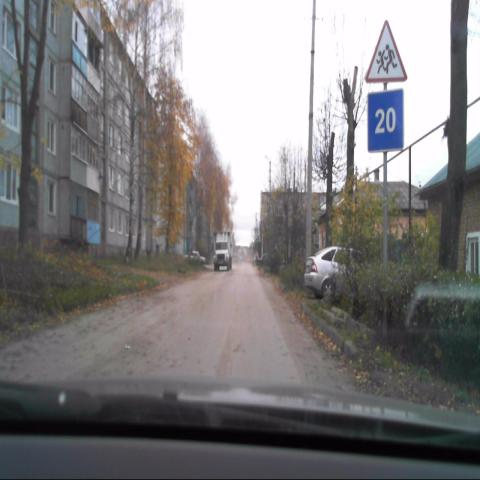6_2: (368, 88, 406, 150)
